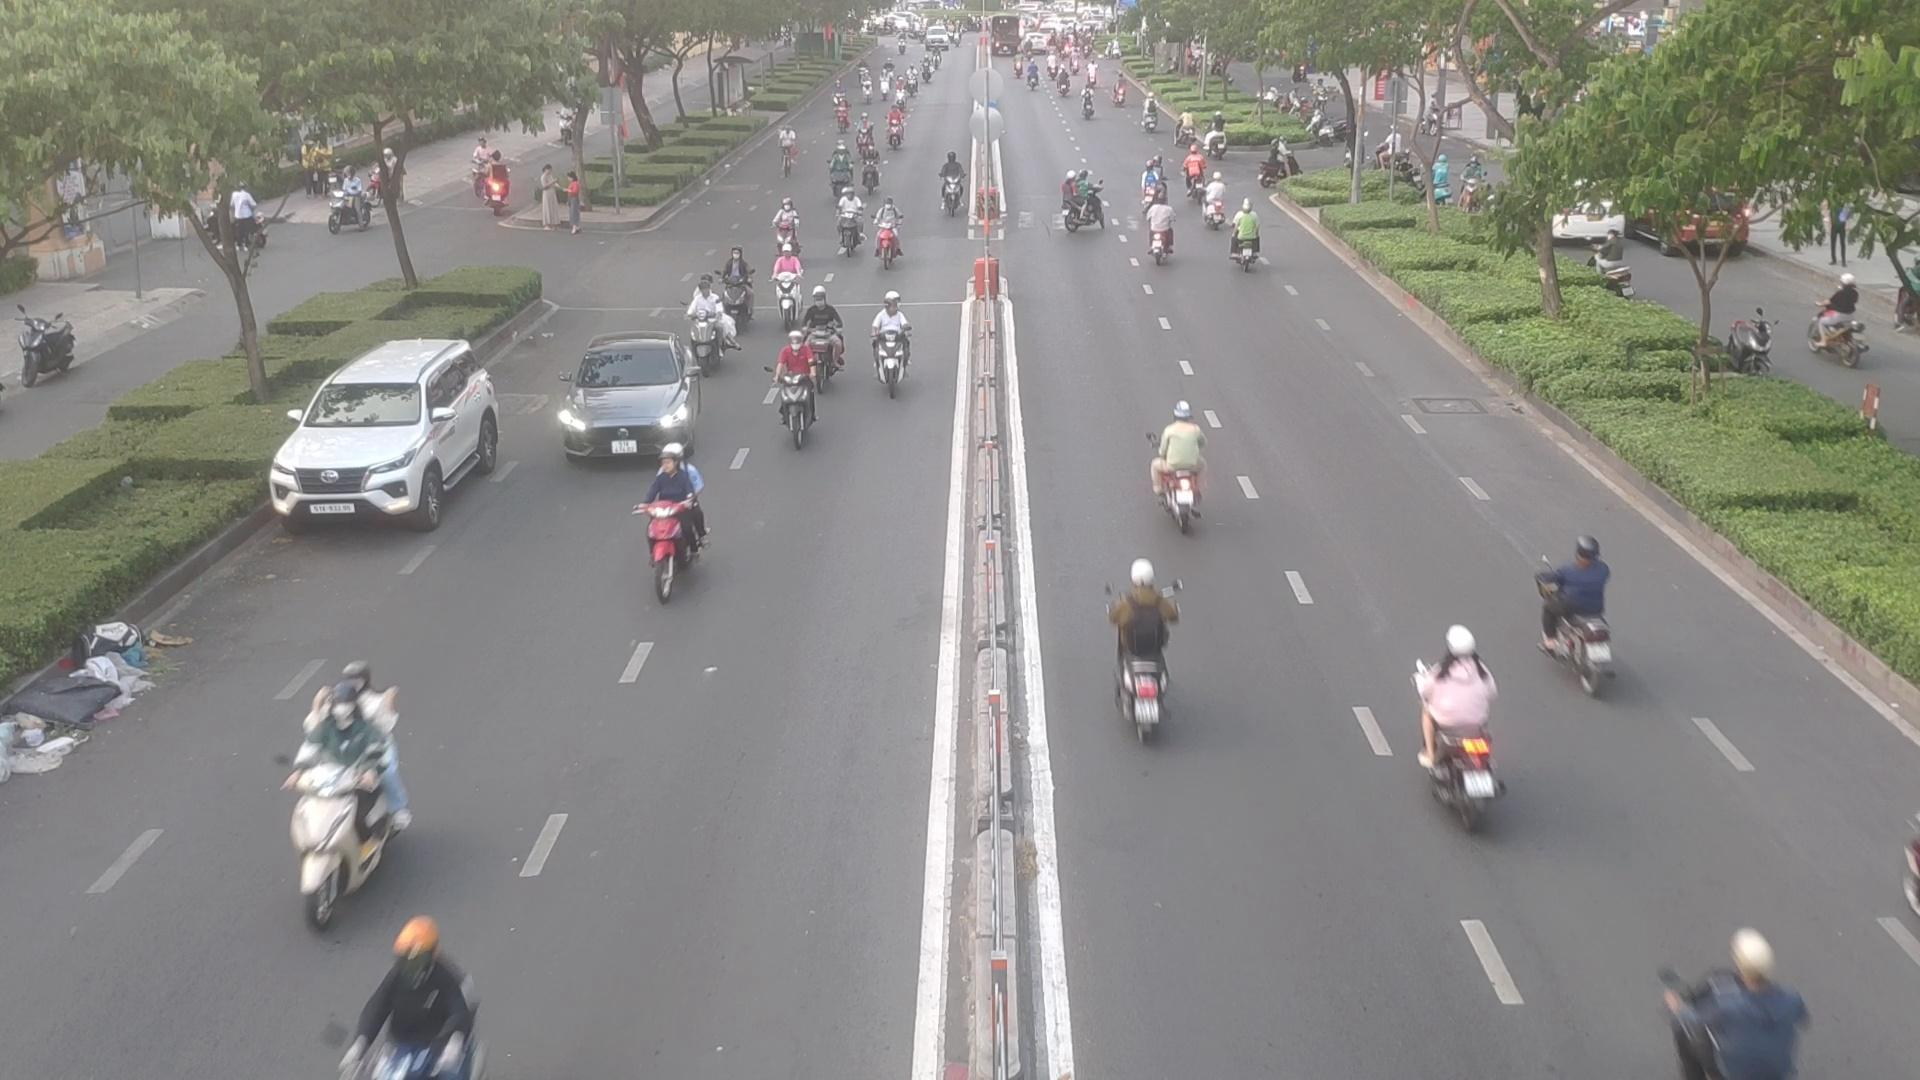car: (273, 339, 516, 531), (555, 336, 707, 462)
motorbike: (276, 663, 411, 909), (1646, 922, 1818, 1080), (336, 934, 491, 1080), (1408, 621, 1519, 818), (1097, 568, 1184, 742), (1534, 537, 1618, 688), (626, 448, 711, 591), (1141, 409, 1208, 527), (771, 330, 836, 447), (865, 301, 916, 398), (688, 289, 744, 371), (800, 293, 843, 386), (1052, 167, 1106, 236), (713, 251, 760, 319), (1228, 207, 1269, 272), (767, 249, 806, 313), (773, 198, 808, 261), (833, 191, 868, 256), (1145, 200, 1176, 270), (938, 153, 971, 214), (873, 218, 907, 270), (1204, 171, 1233, 225), (829, 142, 852, 198), (1146, 161, 1168, 212), (861, 148, 884, 193), (884, 109, 905, 152), (1184, 152, 1203, 199), (855, 117, 873, 157)
